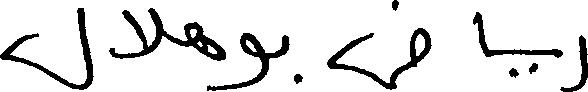X: (329, 0, 428, 91), (0, 3, 90, 91), (111, 3, 160, 63), (224, 28, 267, 91), (187, 17, 222, 91), (563, 30, 587, 91), (476, 7, 488, 61), (552, 44, 561, 91), (281, 30, 288, 60)
